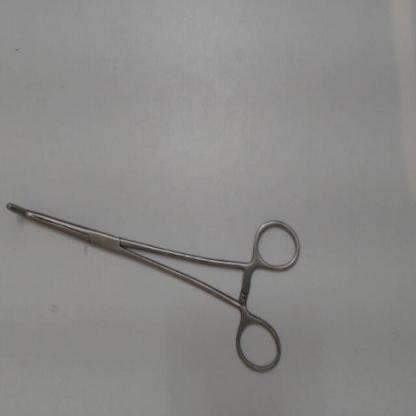Lahey Forceps: (1, 192, 306, 380)
